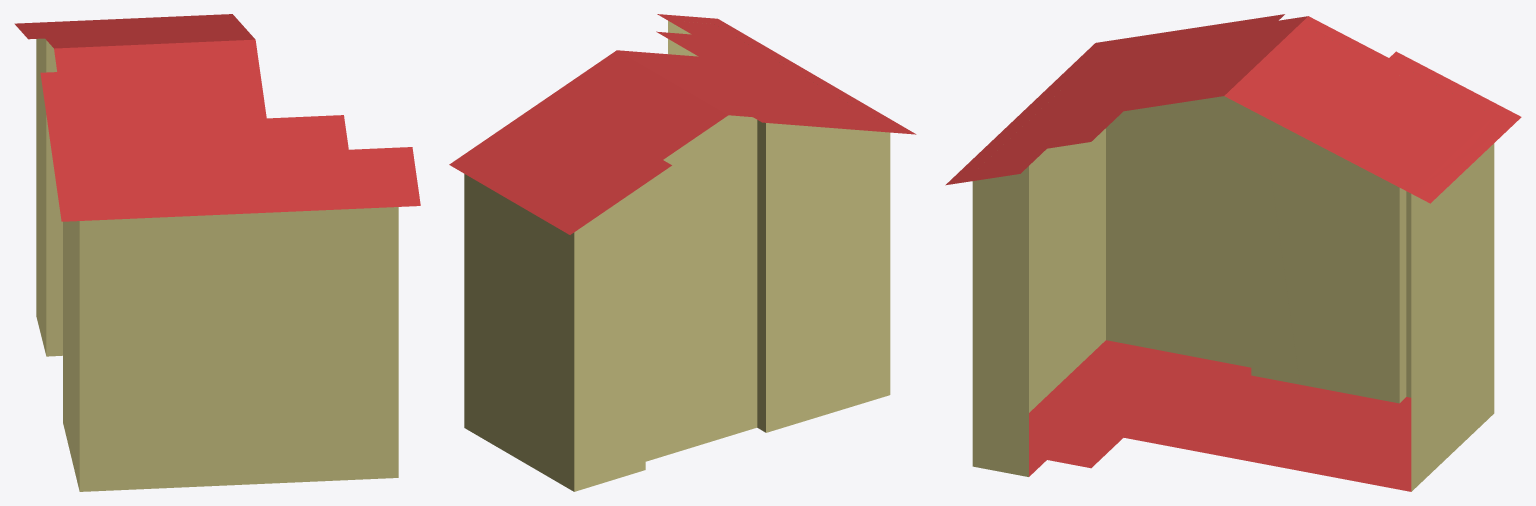
3 renders of one model, left to right at view 1: azimuth 30°, elevation 25°; view 2: azimuth 150°, elevation 25°; view 3: azimuth 270°, elevation 25°, orthographic. The views are drawn at different scales.
Bounding box in the file's own units: 9.51 × 13.88 × 9.58.
